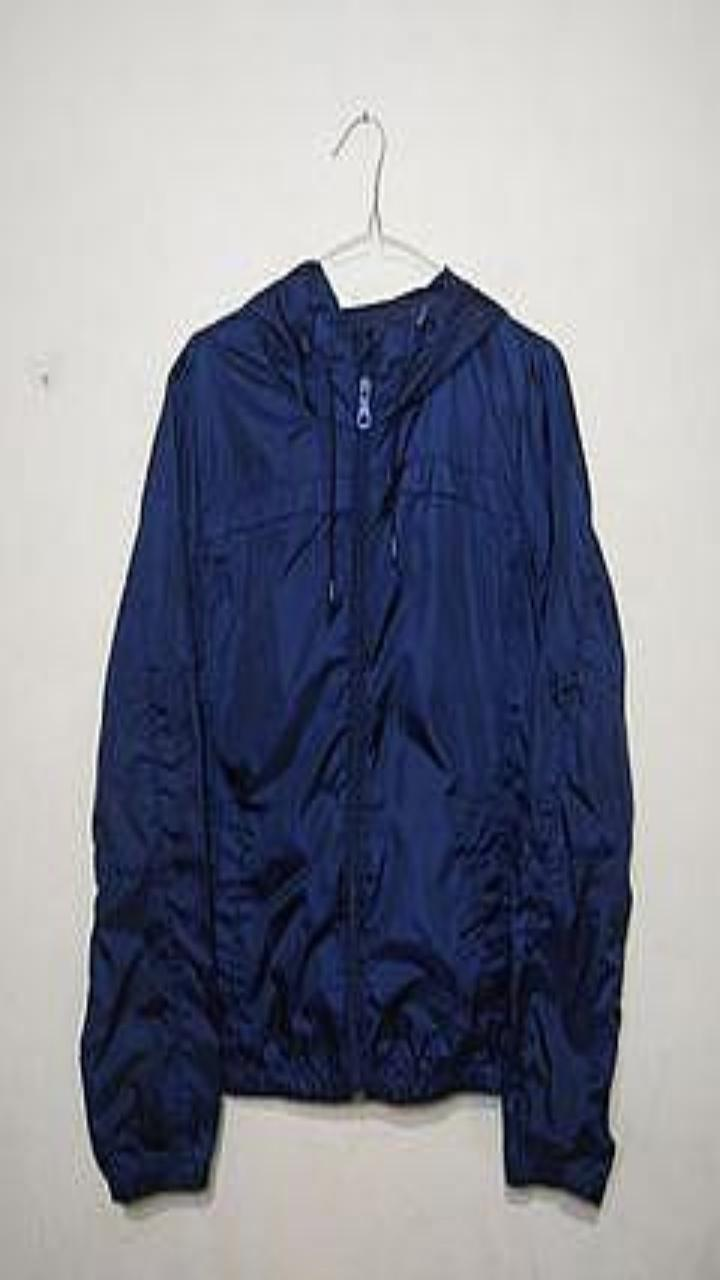Sports_Jacket: (79, 258, 632, 1204)
